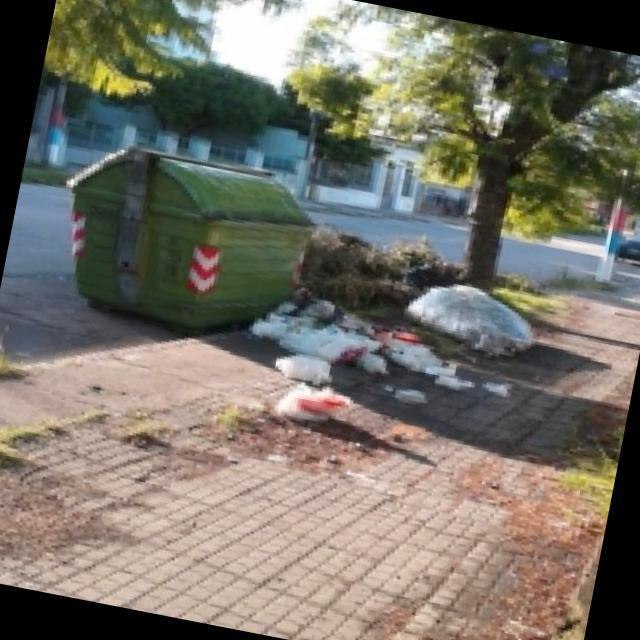garbage: (222, 272, 534, 466), (402, 266, 546, 363)
